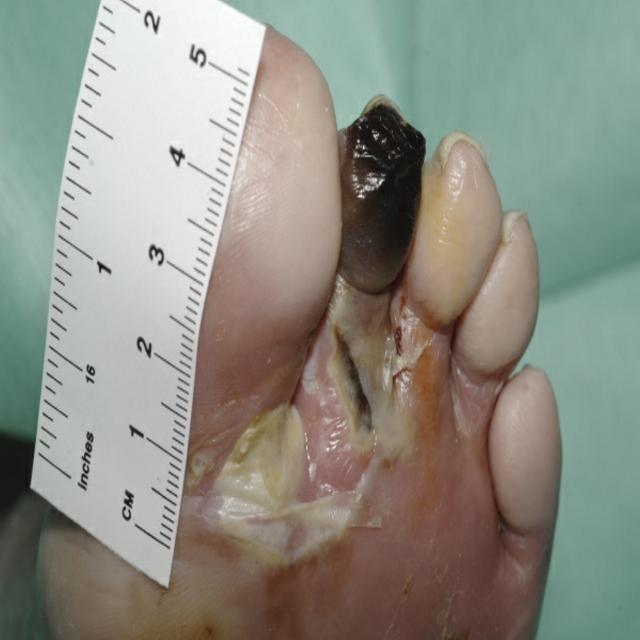wound: (216, 96, 444, 561)
